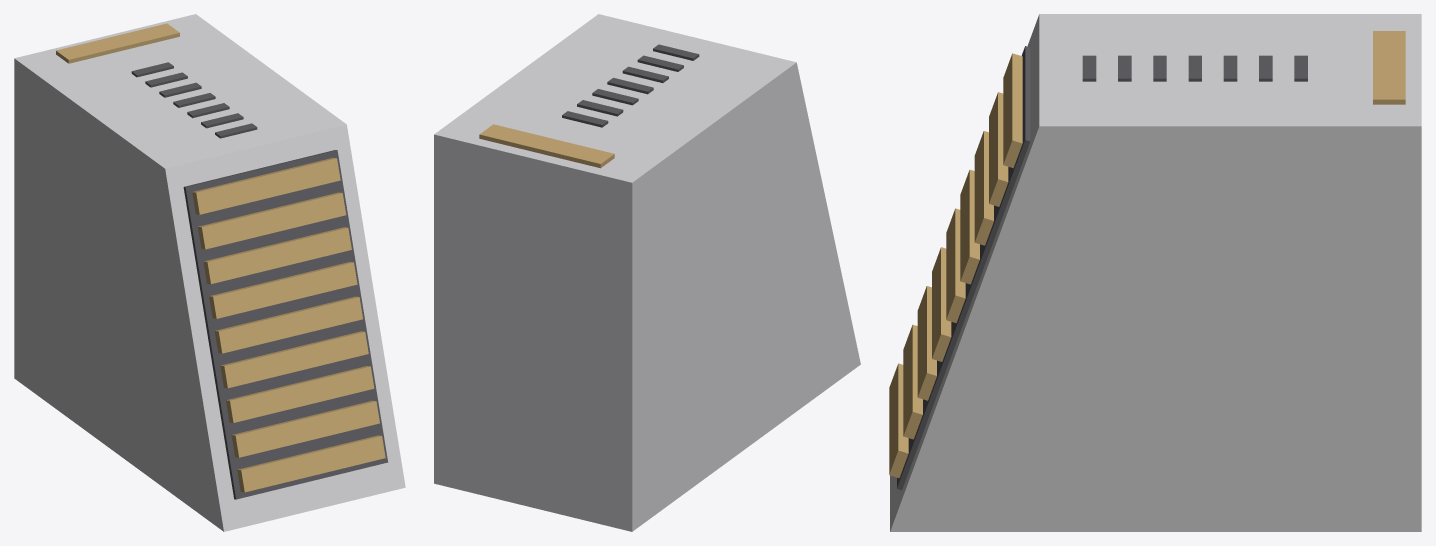
The model's file is vge_small_astrofuel_thruster.obj.
The picture shows the model from 3 angles, left to right: view 1: azimuth 30°, elevation 25°; view 2: azimuth 150°, elevation 25°; view 3: azimuth 270°, elevation 25°; orthographic projection. The views are drawn at different scales.
Visible parts, largest first — view 1: vge_small_astrofuel_thruster_0, vge_small_astrofuel_thruster_1, vge_small_astrofuel_thruster_2, vge_small_astrofuel_thruster_3, vge_small_astrofuel_thruster_6, vge_small_astrofuel_thruster_9, vge_small_astrofuel_thruster_5, vge_small_astrofuel_thruster_8, vge_small_astrofuel_thruster_10, vge_small_astrofuel_thruster_4, vge_small_astrofuel_thruster_7, vge_small_astrofuel_thruster_18; view 2: vge_small_astrofuel_thruster_0, vge_small_astrofuel_thruster_18; view 3: vge_small_astrofuel_thruster_0, vge_small_astrofuel_thruster_1, vge_small_astrofuel_thruster_18, vge_small_astrofuel_thruster_10, vge_small_astrofuel_thruster_2, vge_small_astrofuel_thruster_6, vge_small_astrofuel_thruster_3, vge_small_astrofuel_thruster_4, vge_small_astrofuel_thruster_7, vge_small_astrofuel_thruster_5, vge_small_astrofuel_thruster_8, vge_small_astrofuel_thruster_9.
Boxes of the visible parts, x1,y1,x2,y2 form: vge_small_astrofuel_thruster_0: (14,14,405,531); vge_small_astrofuel_thruster_1: (183,150,388,499); vge_small_astrofuel_thruster_2: (237,435,385,492); vge_small_astrofuel_thruster_3: (231,400,379,457); vge_small_astrofuel_thruster_6: (214,296,362,353); vge_small_astrofuel_thruster_9: (198,192,346,249); vge_small_astrofuel_thruster_5: (220,331,368,388); vge_small_astrofuel_thruster_8: (203,227,351,284); vge_small_astrofuel_thruster_10: (192,157,340,214); vge_small_astrofuel_thruster_4: (226,366,374,422); vge_small_astrofuel_thruster_7: (209,262,357,318); vge_small_astrofuel_thruster_18: (56,23,179,63); vge_small_astrofuel_thruster_0: (434,14,860,531); vge_small_astrofuel_thruster_18: (479,124,614,168); vge_small_astrofuel_thruster_0: (890,14,1421,531); vge_small_astrofuel_thruster_1: (897,46,1030,490); vge_small_astrofuel_thruster_18: (1373,31,1405,104); vge_small_astrofuel_thruster_10: (1003,53,1022,168); vge_small_astrofuel_thruster_2: (889,363,908,478); vge_small_astrofuel_thruster_6: (946,208,965,323); vge_small_astrofuel_thruster_3: (903,324,922,439); vge_small_astrofuel_thruster_4: (917,286,936,400); vge_small_astrofuel_thruster_7: (960,169,979,284); vge_small_astrofuel_thruster_5: (932,247,951,361); vge_small_astrofuel_thruster_8: (974,131,993,245); vge_small_astrofuel_thruster_9: (989,92,1008,206).
Bounding box in the file's own units: 0.98 × 1.67 × 1.96.
